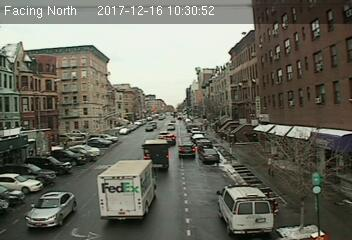car: (23, 192, 75, 230), (199, 149, 220, 162), (177, 143, 195, 156)
police: (216, 181, 275, 234)
truck: (98, 159, 159, 221)
ups: (140, 138, 170, 170)
